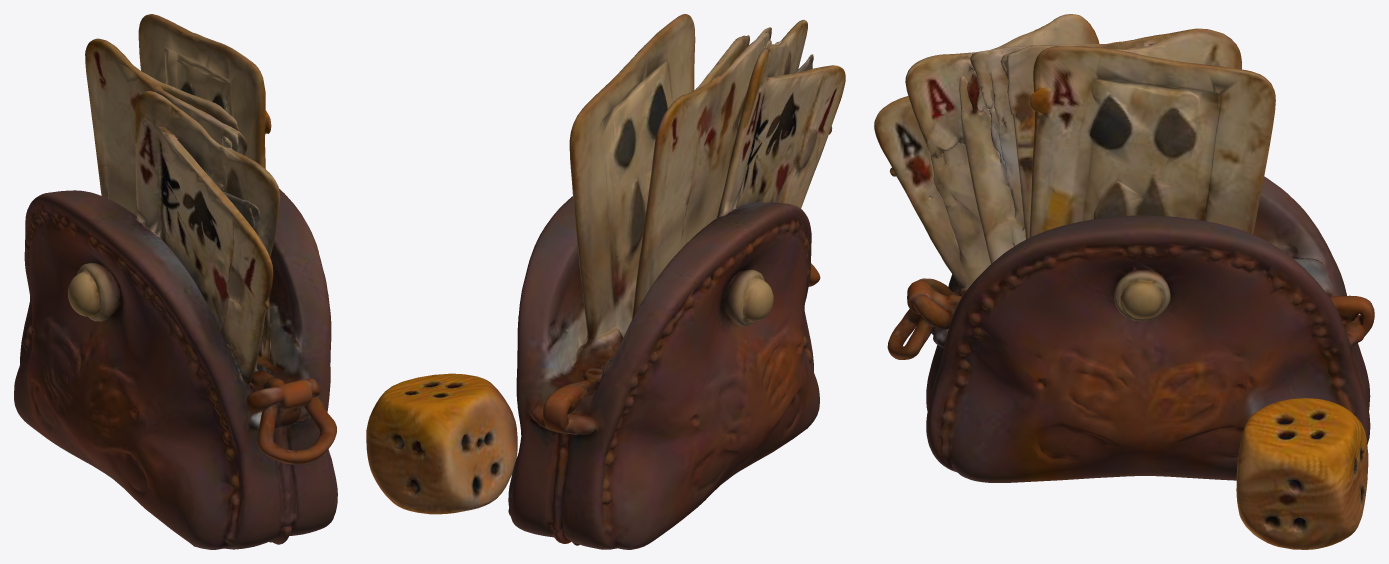
File: 扑克牌.glb
The picture shows the model from 3 angles, left to right: view 1: azimuth 30°, elevation 25°; view 2: azimuth 150°, elevation 25°; view 3: azimuth 270°, elevation 25°; orthographic projection. The views are drawn at different scales.
Parts seen in each view (by area): view 1: tripo_node_ff683de6-ce9c-4e3e-8f4f-2c9178d30041; view 2: tripo_node_ff683de6-ce9c-4e3e-8f4f-2c9178d30041; view 3: tripo_node_ff683de6-ce9c-4e3e-8f4f-2c9178d30041.
Boxes of the visible parts, left/top/right/bottom form: tripo_node_ff683de6-ce9c-4e3e-8f4f-2c9178d30041: left=14, top=14, right=337, bottom=549; tripo_node_ff683de6-ce9c-4e3e-8f4f-2c9178d30041: left=366, top=14, right=845, bottom=549; tripo_node_ff683de6-ce9c-4e3e-8f4f-2c9178d30041: left=874, top=14, right=1374, bottom=549.
Size of the model in its own units: 0.7128 by 0.9453 by 1.
1 material, 1 textured.
